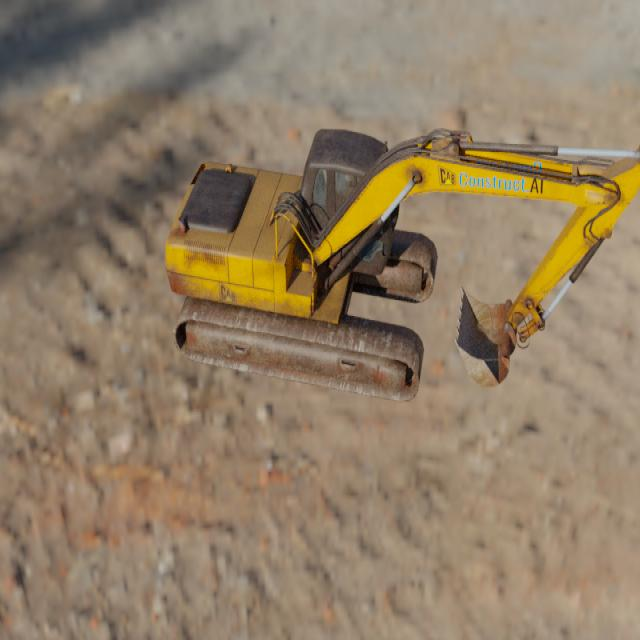excavator: (164, 126, 640, 402)
